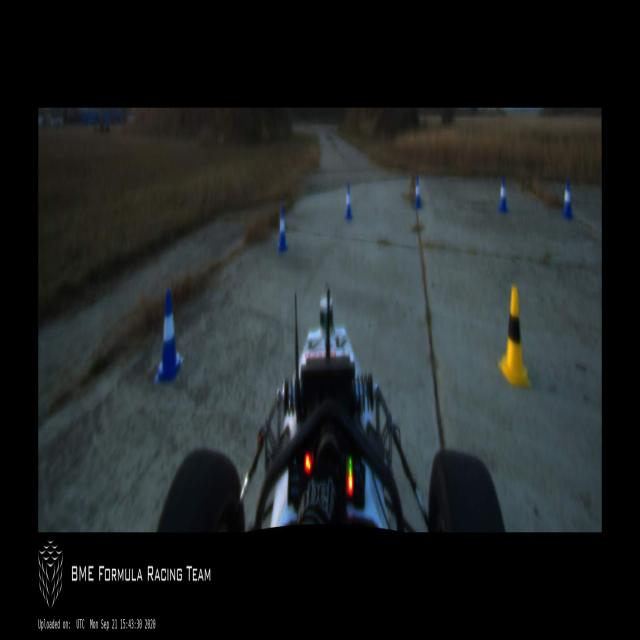blue_cone: (154, 290, 184, 383), (561, 179, 573, 222), (277, 206, 287, 252), (499, 175, 509, 212), (343, 184, 353, 218), (414, 176, 422, 208)
yellow_cone: (498, 286, 532, 390)
